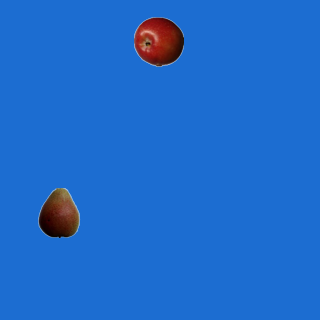Apple Braeburn: (133, 16, 183, 66)
Pear Forelle: (33, 187, 83, 237)
